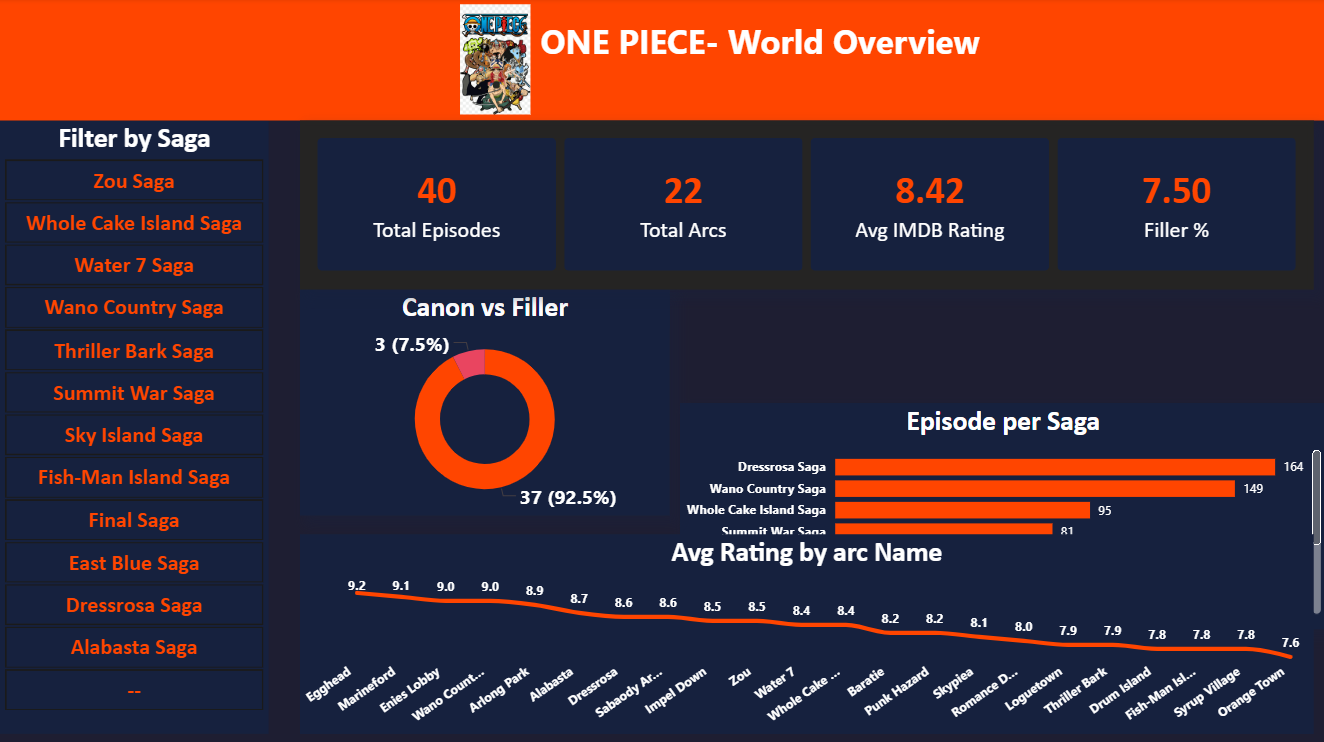

This screenshot's page, from the dashboard's own definition file:
{"tool":"powerbi","page":{"name":"World Overview","canvas":[1280,720],"ordinal":0},"visuals":[{"type":"shape","box":[0,0,1280,118.2],"z":0,"group":"g1"},{"type":"clusteredBarChart","title":" Episode per Saga","fields":{"Category":["Arcs.Saga_Name"],"Y":["Sum(Arcs.Total_Episodes)"]},"box":[656.3,390.9,623.7,218.4],"z":0},{"type":"textbox","box":[186.7,14.5,1093.4,60.3],"z":1000,"group":"g1"},{"type":"donutChart","title":"Canon vs Filler ","fields":{"Category":["Episodes.Is_Filler"],"Y":["CountNonNull(Episodes.Episode_Number)"]},"box":[289.5,281.1,357.1,218.4],"z":1000},{"type":"listSlicer","fields":{"Values":["Arcs.Saga_Name"]},"box":[0,118.2,259.4,592.4],"z":2000},{"type":"group","id":"g1","title":"Group 1","box":[0,0,1280,118.2],"z":3000},{"type":"cardVisual","fields":{"Data":["CountNonNull(Episodes.Episode_Number)","CountNonNull(Arcs.Arc_Name)","Avg(Episodes.IMDb_Rating)","Episodes.Filler %"]},"box":[289.5,118.2,978.4,162.9],"z":4000},{"type":"lineChart","title":"Avg Rating by arc Name","fields":{"Category":["Arcs.Arc_Name"],"Y":["Sum(Arcs.Avg_IMDb_Rating)"]},"box":[289.5,517.6,978.4,193],"z":5000},{"type":"image","box":[299.2,6,357.1,106.2],"z":6000}]}

Visuals, with their boxes in screenshot pixels (x1, y1, x2, y2), scaled from the page's 1280x720 canvas onto the 1324x742 screenshot:
shape: bbox=(0, 0, 1323, 122)
" Episode per Saga" clusteredBarChart: bbox=(679, 403, 1323, 628)
textbox: bbox=(193, 15, 1323, 77)
"Canon vs Filler " donutChart: bbox=(299, 290, 669, 515)
listSlicer - Arcs.Saga_Name: bbox=(0, 122, 268, 732)
"Group 1" group: bbox=(0, 0, 1323, 122)
cardVisual - CountNonNull(Episodes.Episode_Number) x CountNonNull(Arcs.Arc_Name): bbox=(299, 122, 1311, 290)
"Avg Rating by arc Name" lineChart: bbox=(299, 533, 1311, 732)
image: bbox=(309, 6, 679, 116)
